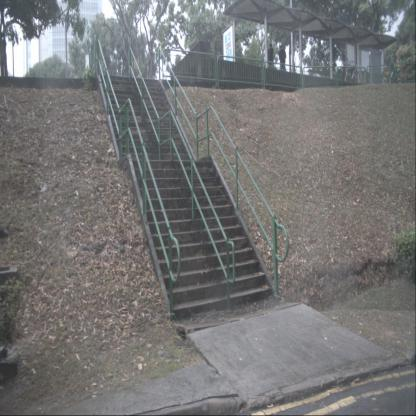human-pedestrian-adult: (278, 45, 287, 82), (267, 42, 275, 82)
vehicle-bicycle: (344, 57, 360, 85)
